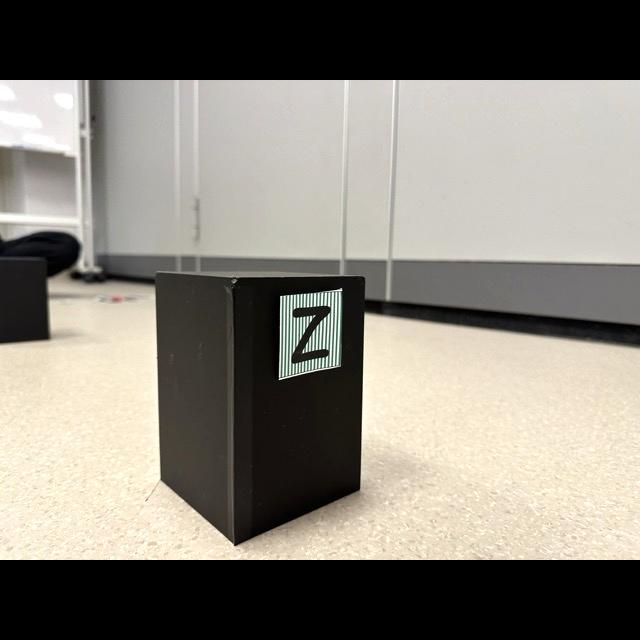Z: (292, 305, 331, 364)
